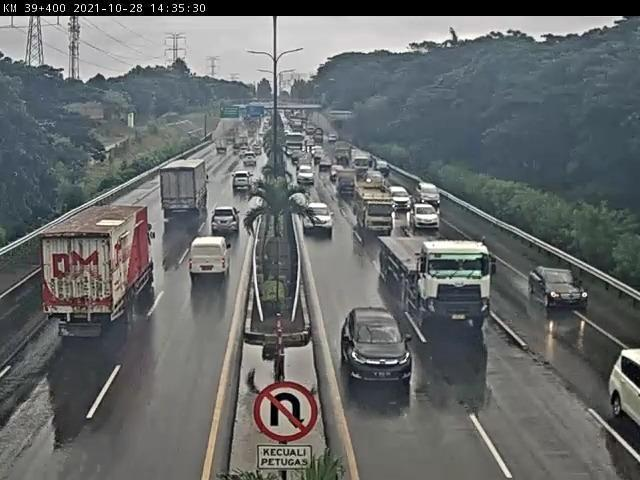car: (342, 309, 416, 390), (525, 266, 586, 313), (616, 334, 640, 423), (192, 237, 234, 285), (303, 202, 333, 233), (211, 206, 244, 234), (412, 205, 442, 230), (390, 186, 410, 210), (230, 171, 252, 192), (419, 185, 440, 203), (366, 172, 385, 187), (300, 167, 315, 183), (375, 161, 389, 173), (244, 153, 256, 165), (331, 165, 341, 177), (293, 152, 303, 163), (320, 158, 330, 169), (315, 150, 324, 160)
truck: (40, 207, 154, 332), (382, 236, 493, 328), (164, 161, 211, 214), (355, 185, 396, 235), (339, 171, 357, 196), (353, 152, 371, 175)
